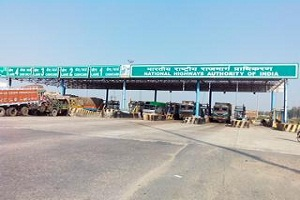toll plaza: (49, 58, 295, 125)
